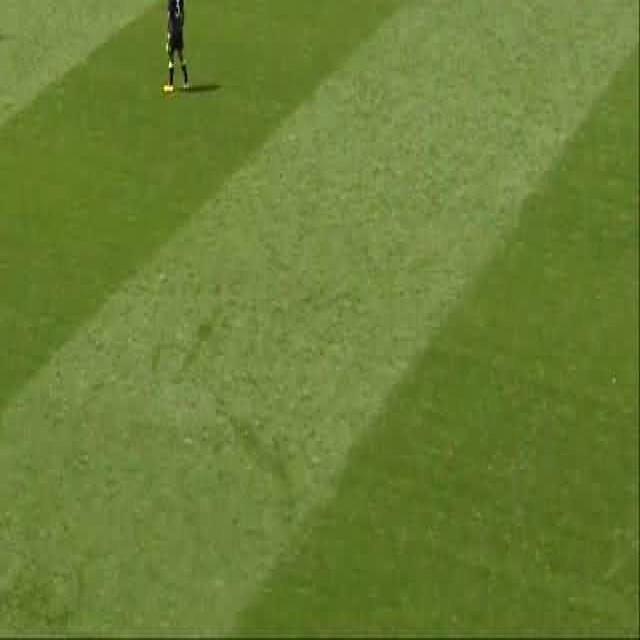player-white: (163, 0, 191, 92)
